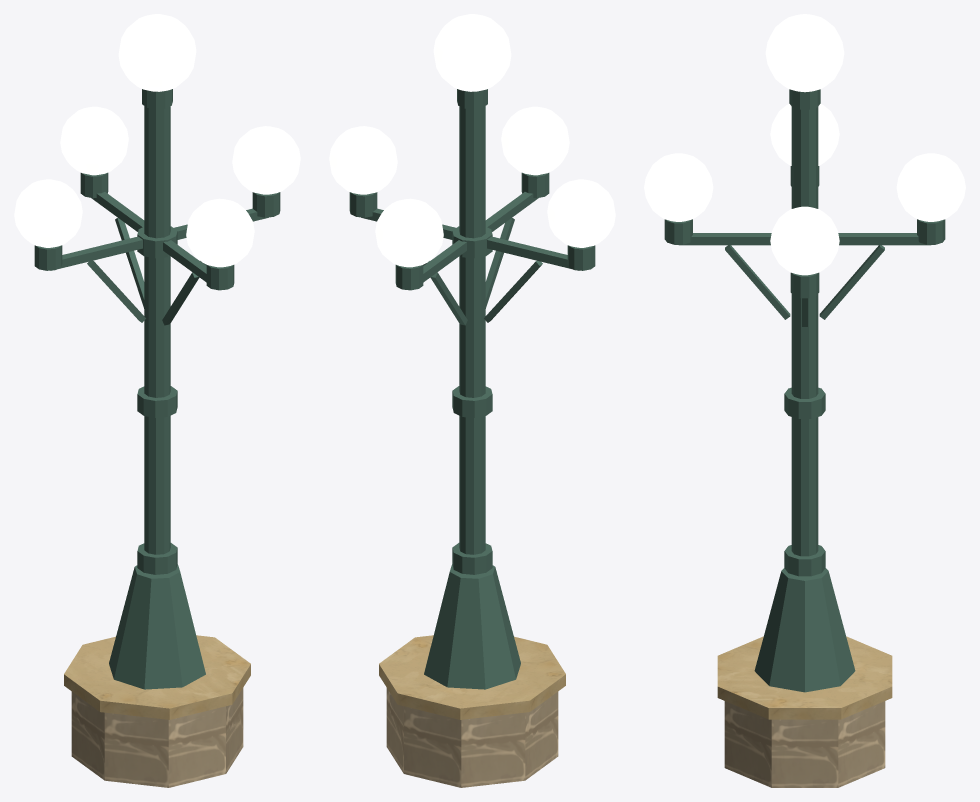
The model's file is lamp_candelabra.gltf.
3 renders of one model, left to right at view 1: azimuth 30°, elevation 25°; view 2: azimuth 150°, elevation 25°; view 3: azimuth 270°, elevation 25°, orthographic.
Visible parts, largest first — view 1: LampCandelabraLampMetal, LampCandelabraLampGlass, LampCandelabraCathedralStone, LampCandelabraCathedralTrim; view 2: LampCandelabraLampMetal, LampCandelabraLampGlass, LampCandelabraCathedralStone, LampCandelabraCathedralTrim; view 3: LampCandelabraLampMetal, LampCandelabraLampGlass, LampCandelabraCathedralStone, LampCandelabraCathedralTrim.
Boxes of the visible parts, bbox=[...] form: LampCandelabraLampMetal: bbox=[34, 89, 280, 689]; LampCandelabraLampGlass: bbox=[14, 14, 300, 267]; LampCandelabraCathedralStone: bbox=[71, 688, 243, 787]; LampCandelabraCathedralTrim: bbox=[64, 635, 250, 719]; LampCandelabraLampMetal: bbox=[349, 89, 595, 689]; LampCandelabraLampGlass: bbox=[329, 14, 615, 267]; LampCandelabraCathedralStone: bbox=[386, 688, 558, 787]; LampCandelabraCathedralTrim: bbox=[379, 635, 565, 719]; LampCandelabraLampMetal: bbox=[664, 89, 945, 692]; LampCandelabraLampGlass: bbox=[644, 14, 965, 275]; LampCandelabraCathedralStone: bbox=[724, 701, 885, 787]; LampCandelabraCathedralTrim: bbox=[717, 636, 892, 719].
Size of what is drawn, in the model's own units: 2.04 by 5.15 by 2.04.
4 materials, 2 textured.
